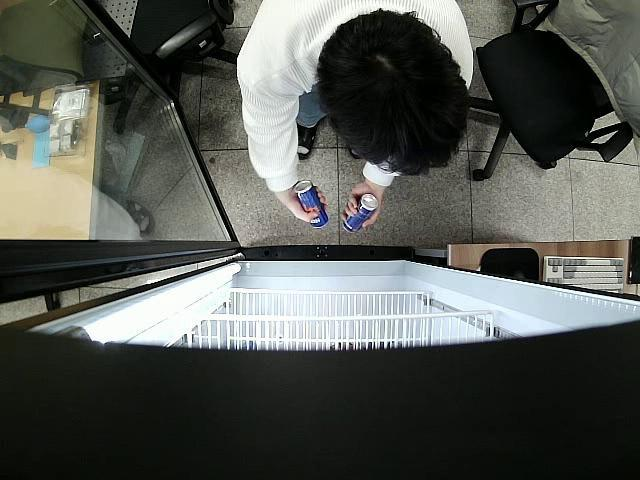16_hot6: (295, 180, 328, 230), (344, 192, 378, 234)
